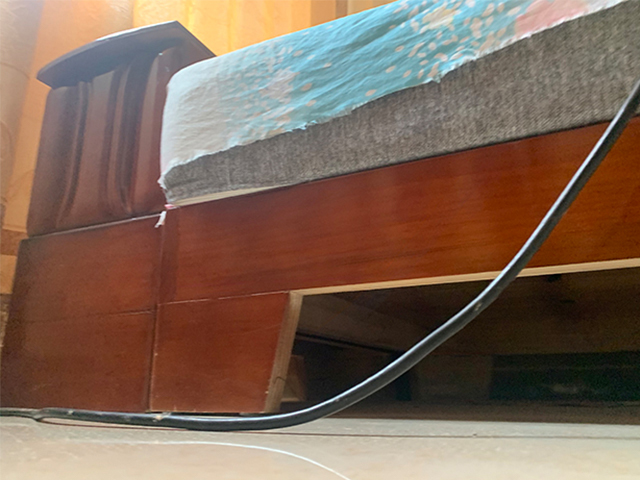sofa: (1, 1, 640, 412)
wire: (1, 79, 640, 434)
